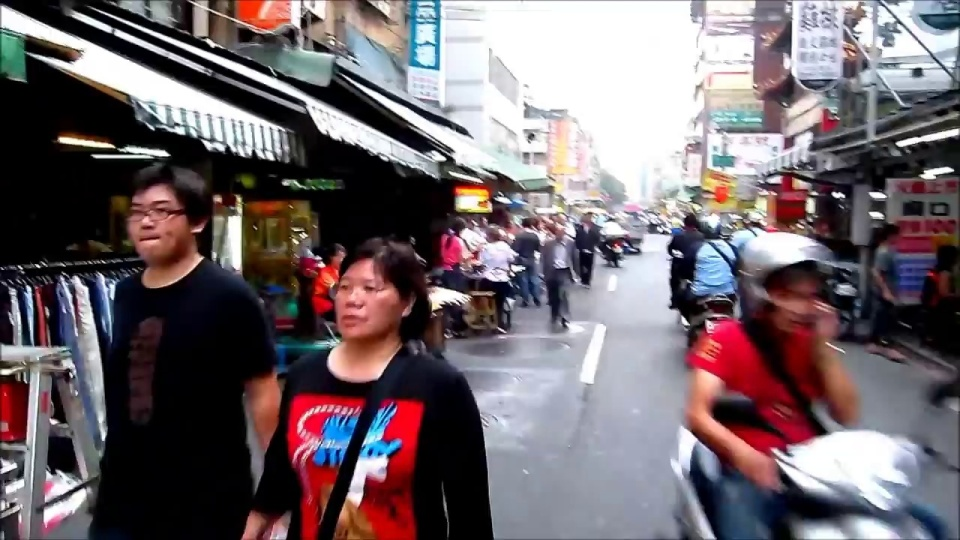person_head: (738, 231, 835, 336), (333, 241, 430, 345), (123, 161, 214, 267), (699, 213, 721, 238), (326, 243, 346, 269), (879, 222, 900, 246), (444, 219, 467, 237), (484, 225, 500, 243)
person_vbox: (237, 238, 496, 540), (87, 160, 281, 539), (684, 231, 861, 540), (679, 211, 744, 318), (867, 222, 912, 364), (475, 223, 518, 336), (435, 217, 471, 341), (540, 225, 574, 328), (308, 242, 350, 321), (669, 215, 703, 311), (509, 219, 543, 308), (575, 211, 599, 288)
